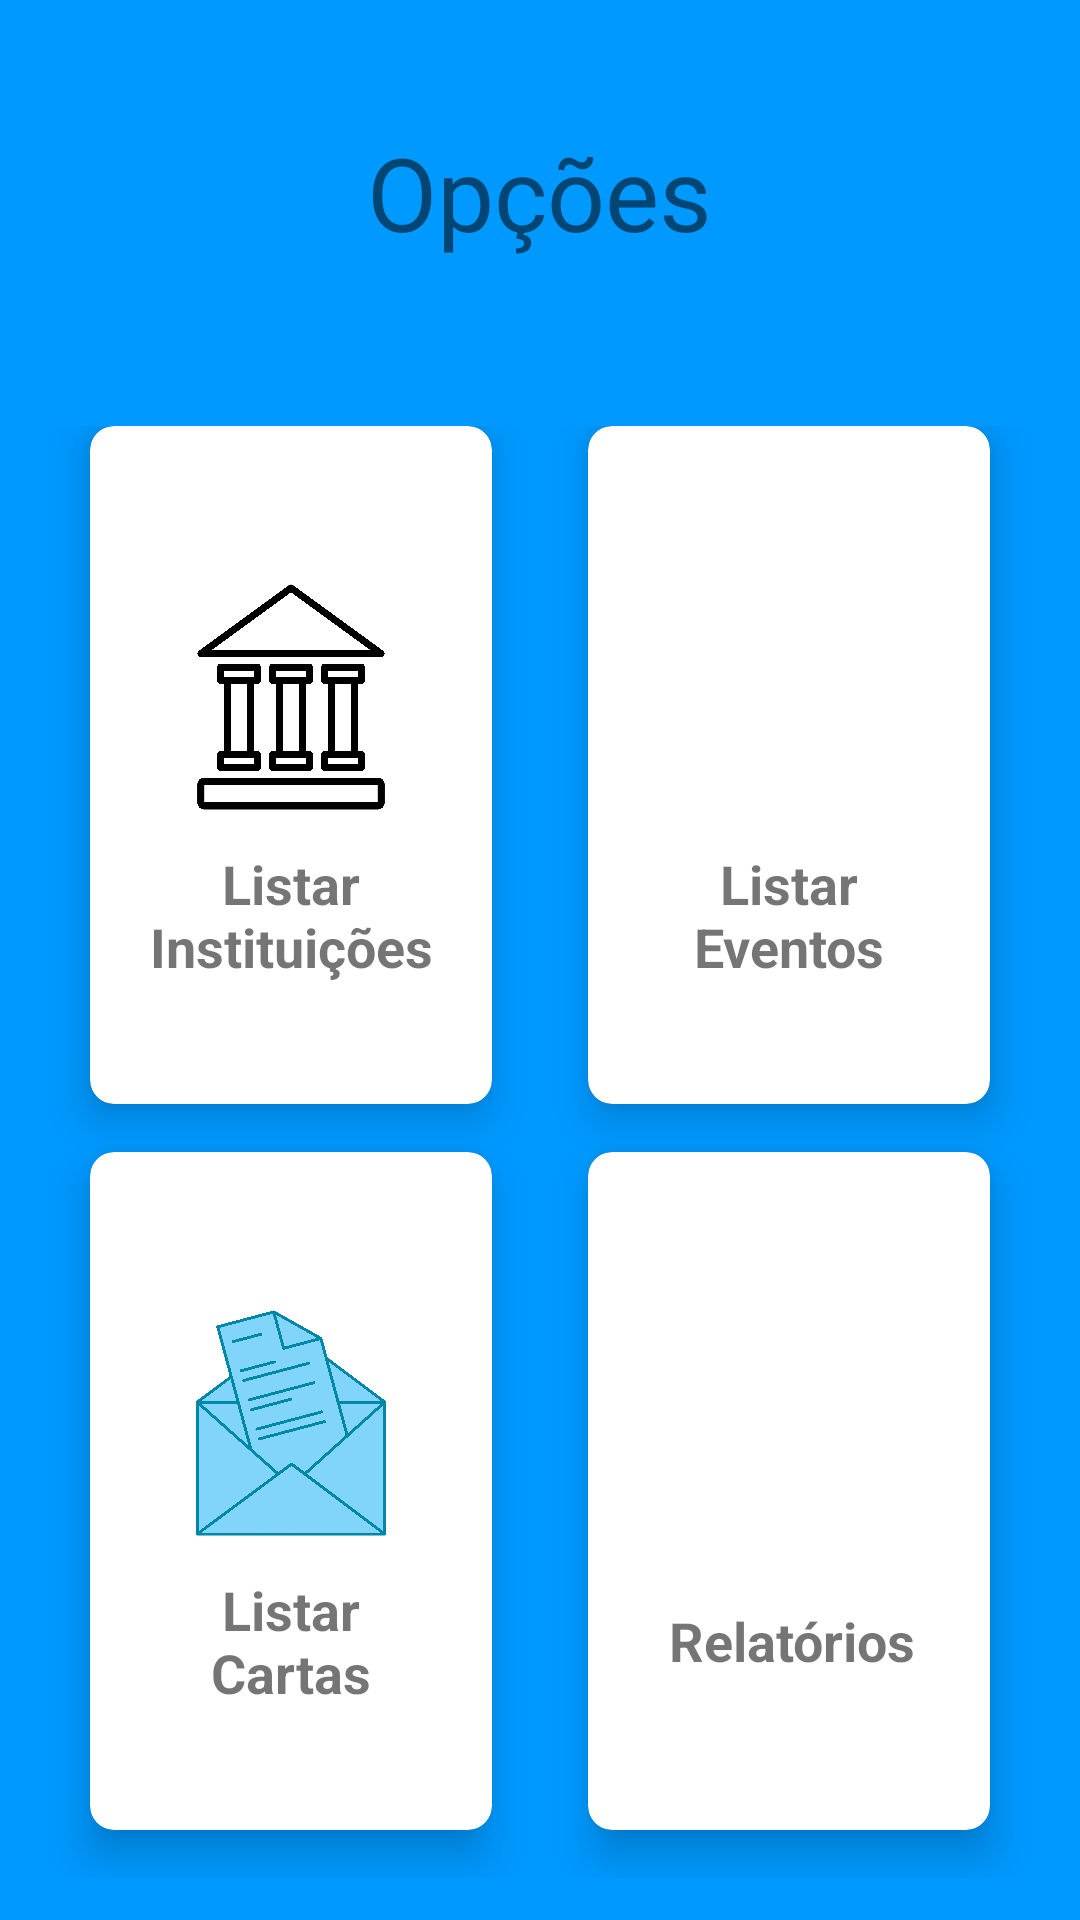

Screen size 1080px x 1920px. Icon name, then its box in pixels as (x1, y1, x2, y2):
instituicao: (197, 584, 385, 810)
